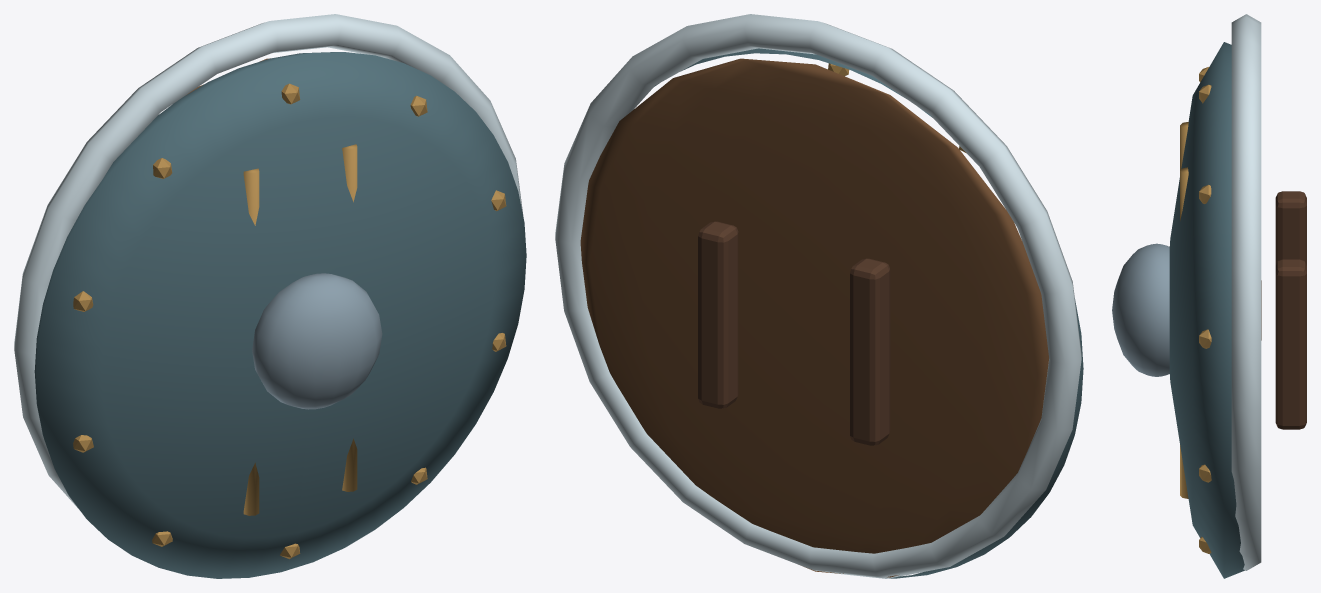
Rendered from WarriorShield.glb.
3 renders of one model, left to right at view 1: azimuth 30°, elevation 25°; view 2: azimuth 150°, elevation 25°; view 3: azimuth 270°, elevation 25°, orthographic. The views are drawn at different scales.
Parts seen in each view (by area): view 1: Model.008; view 2: Model.008; view 3: Model.008.
Part boxes in pixels (x1,y1,x2,y2): Model.008: [14, 14, 526, 578]; Model.008: [555, 14, 1083, 578]; Model.008: [1112, 14, 1306, 578].
Bounding box in the file's own units: 0.624 × 0.634 × 0.2175.
